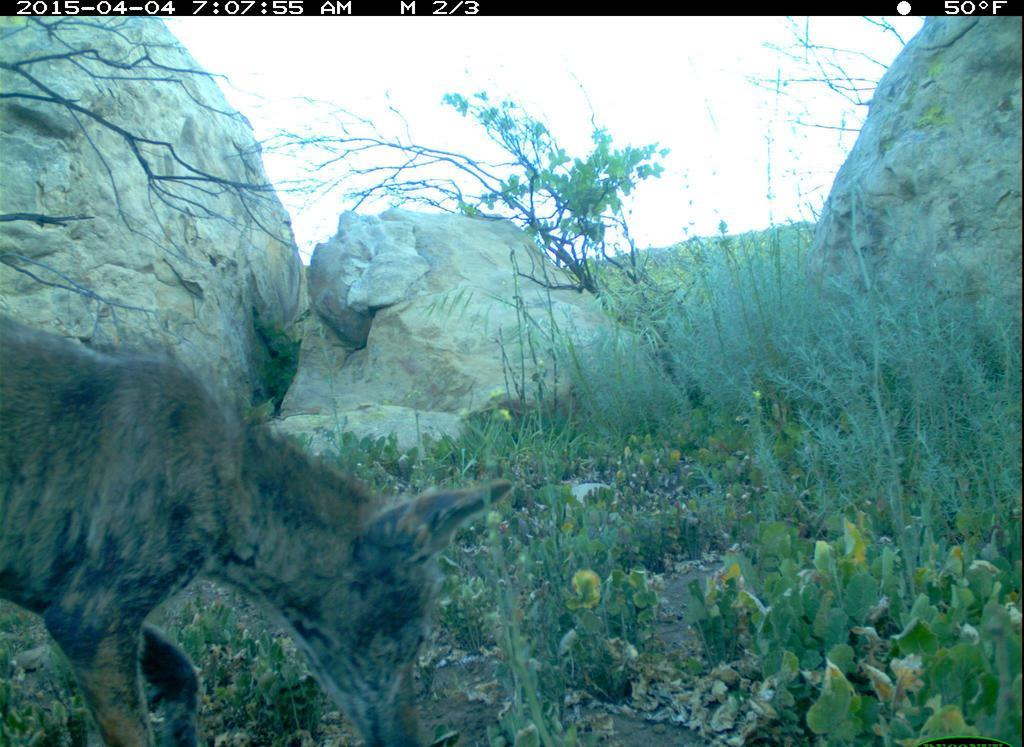coyote: (8, 321, 525, 743)
